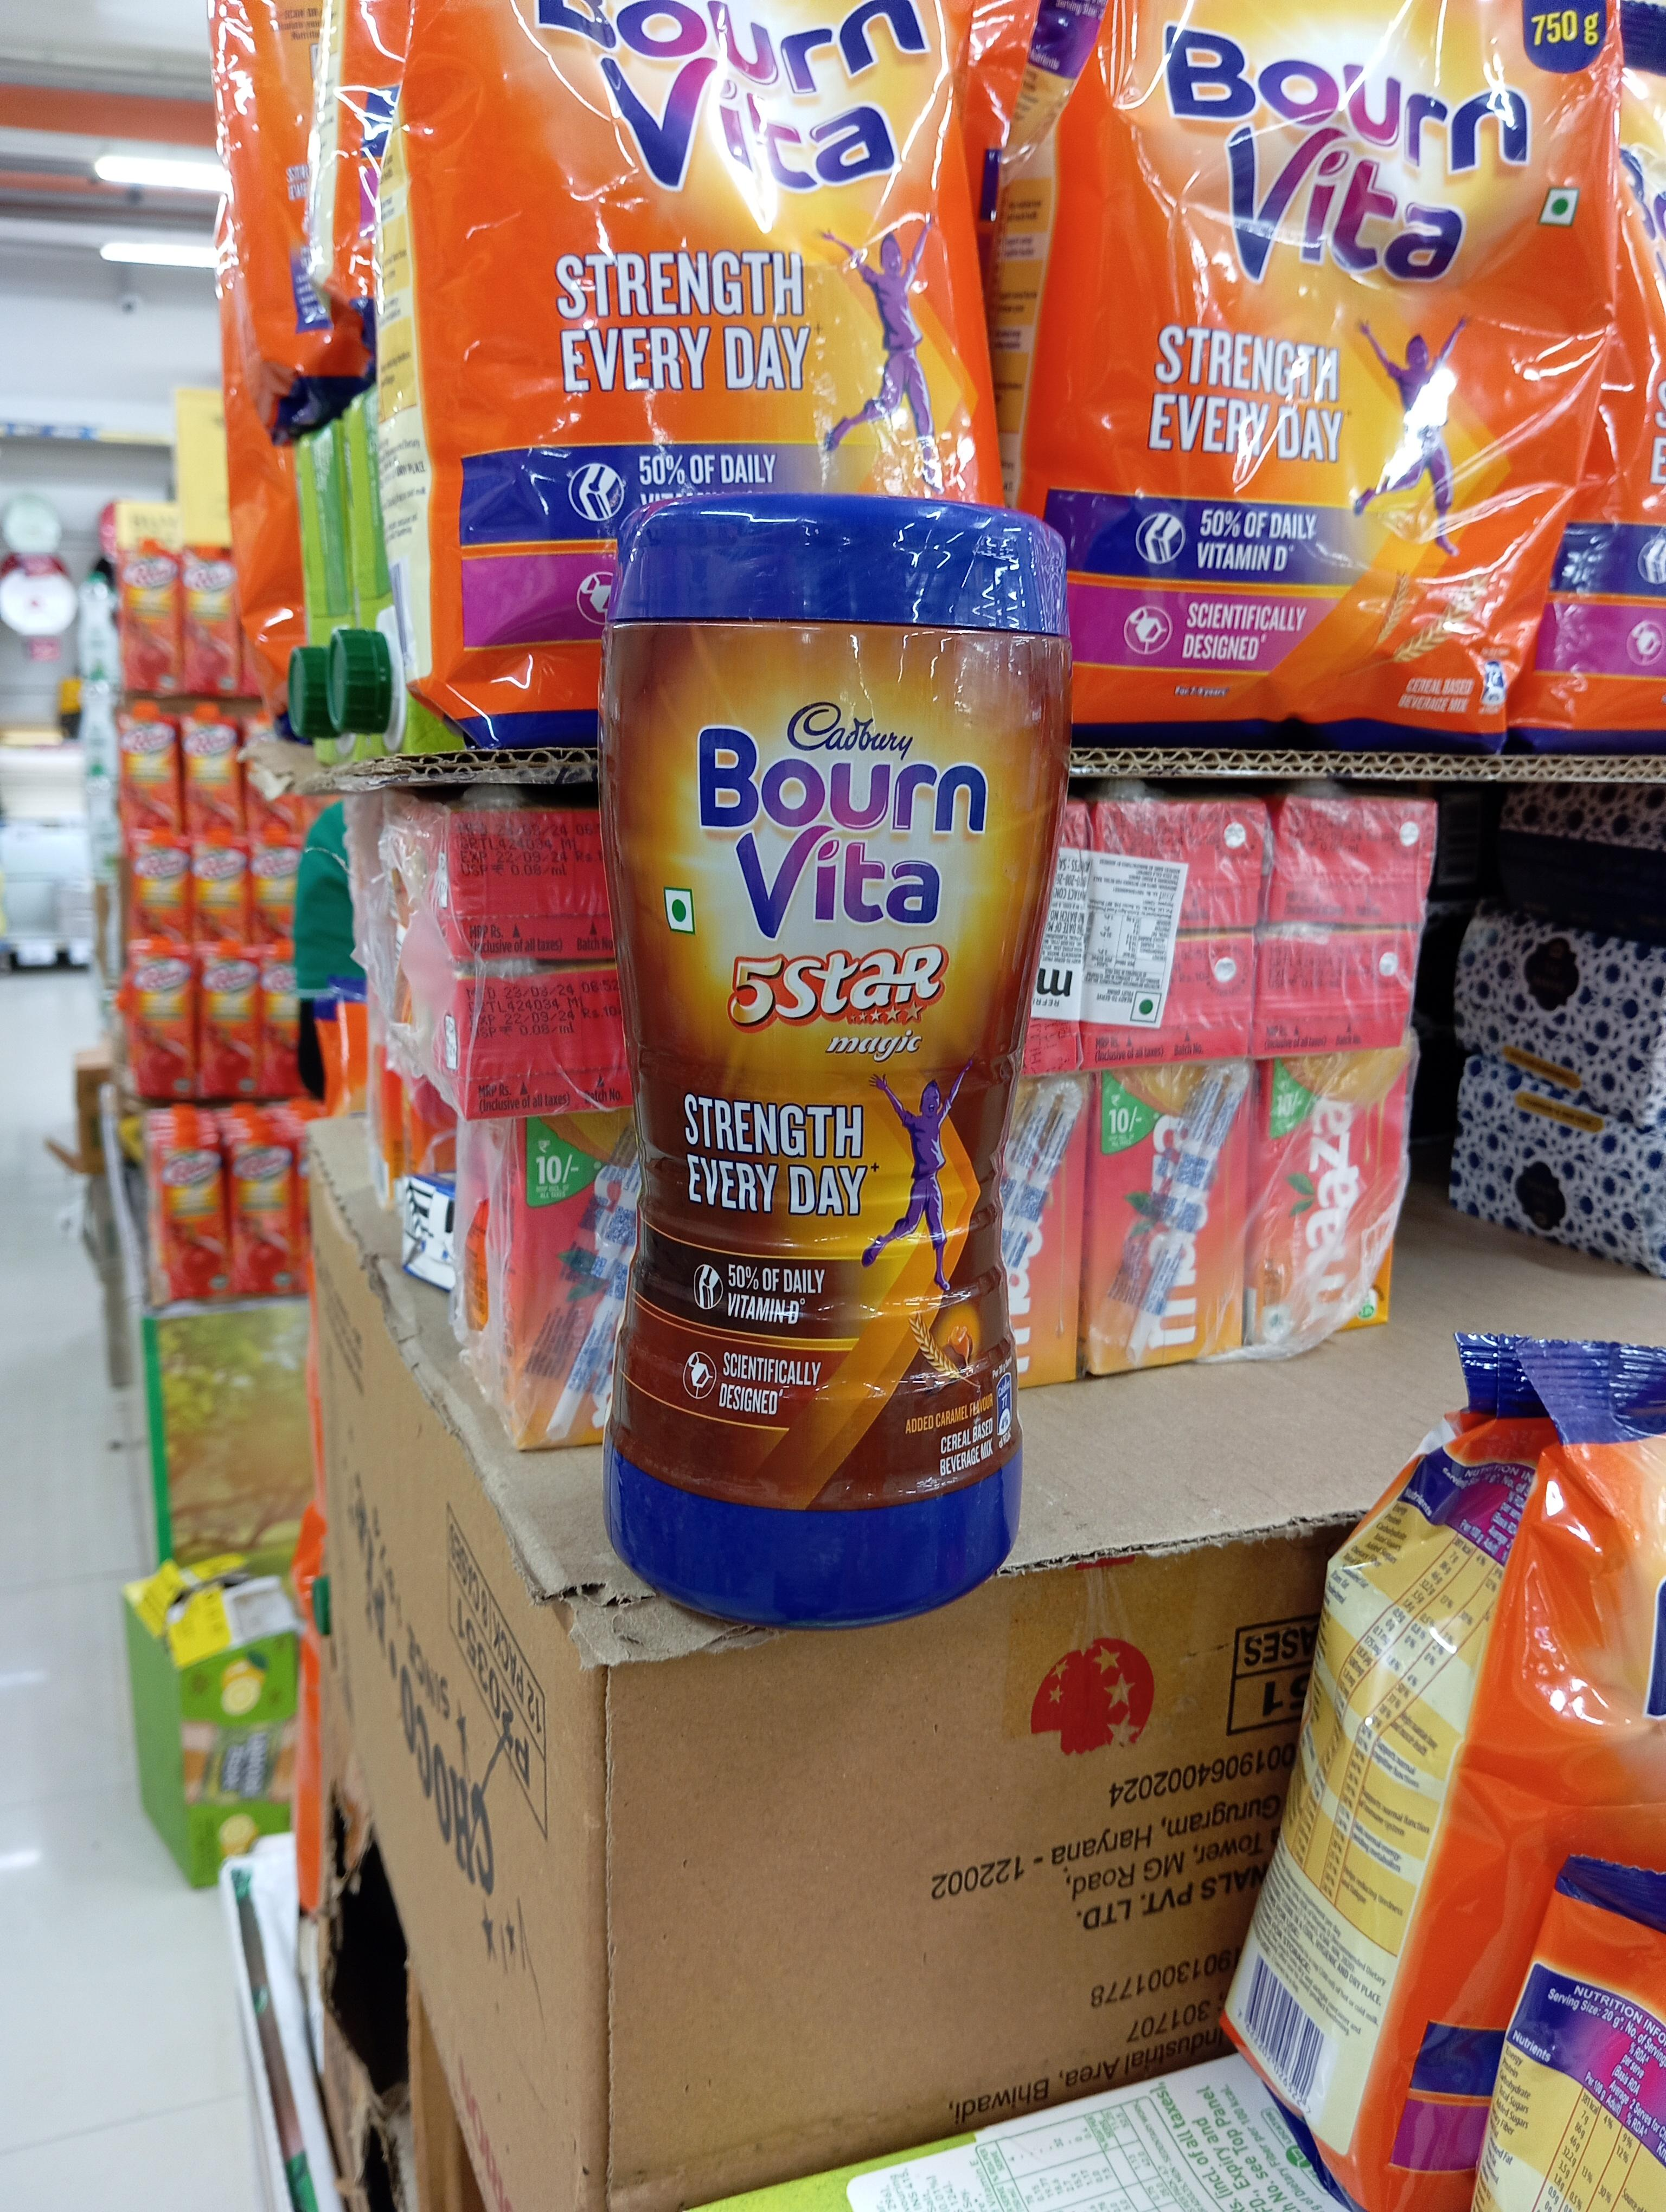BOURN_VITA_FIVE_STAR_MAGIC_500_G_JAR: (595, 486, 1081, 1638)
